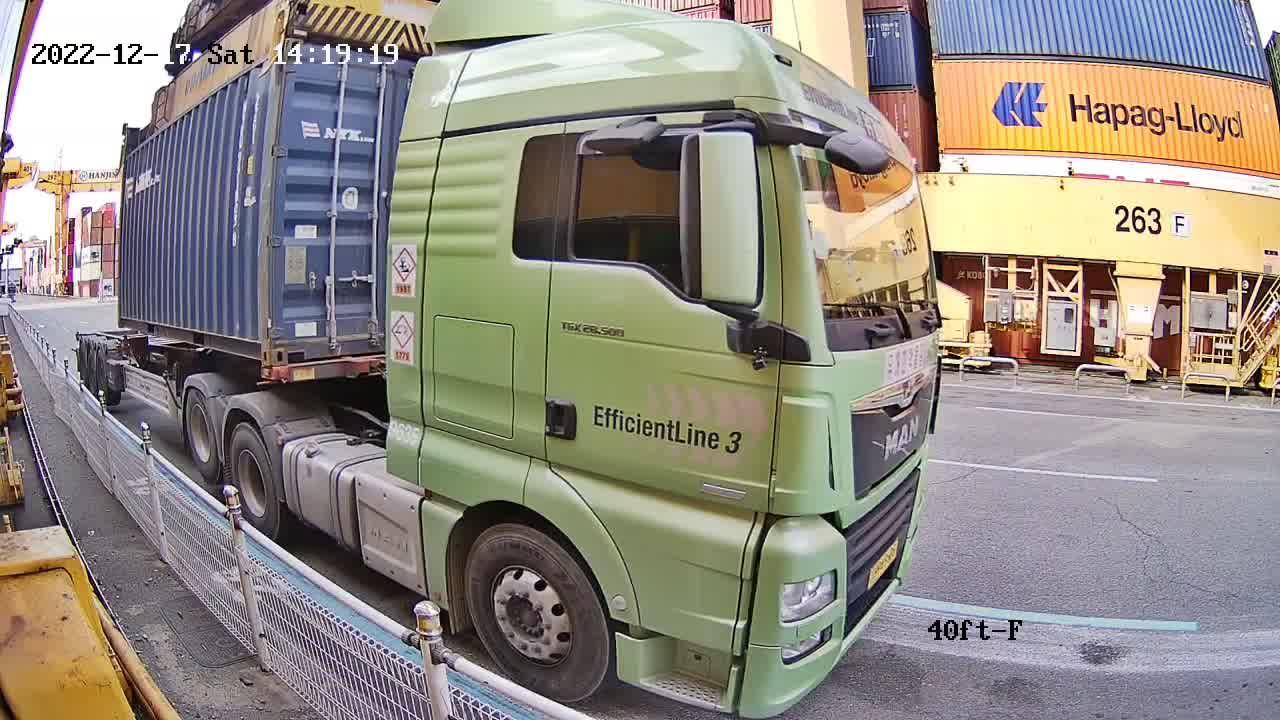Chassis: (263, 357, 386, 379)
Cone: (256, 367, 278, 386)
Hole_L: (271, 328, 314, 365)
Hole_R: (245, 326, 274, 361)
Tire: (470, 527, 608, 704), (227, 425, 278, 530), (184, 391, 217, 471)
